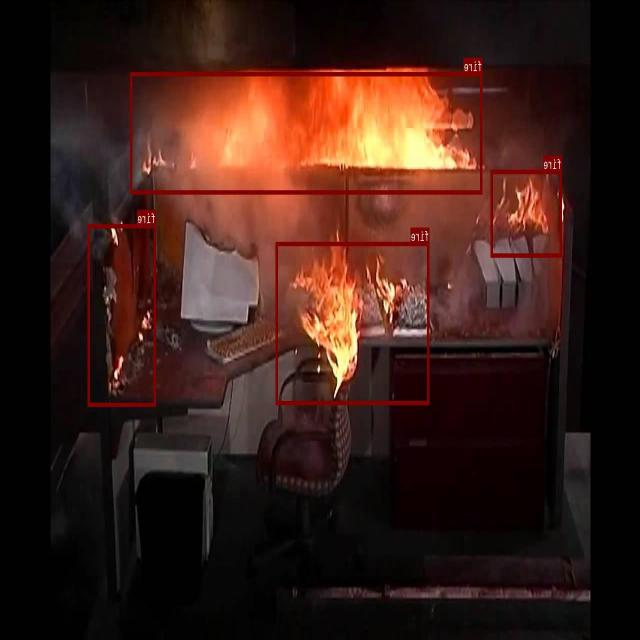fire: (130, 72, 482, 194), (276, 241, 430, 404), (88, 224, 156, 405), (491, 169, 562, 256)
